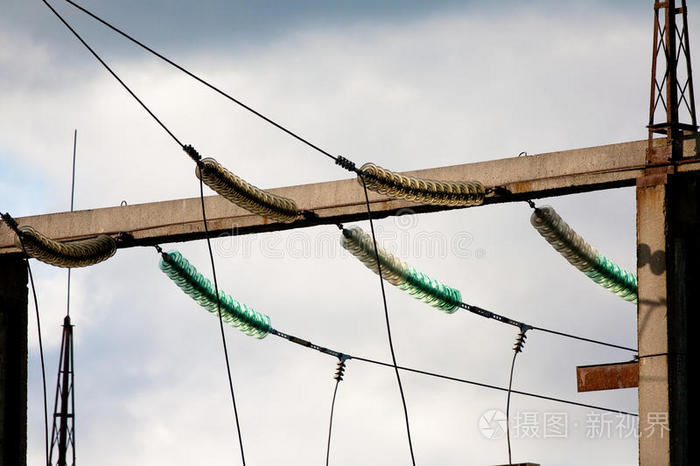insulator: (531, 203, 641, 301), (339, 229, 459, 314), (159, 250, 270, 339), (192, 158, 298, 221), (357, 160, 487, 207), (17, 224, 118, 269)
